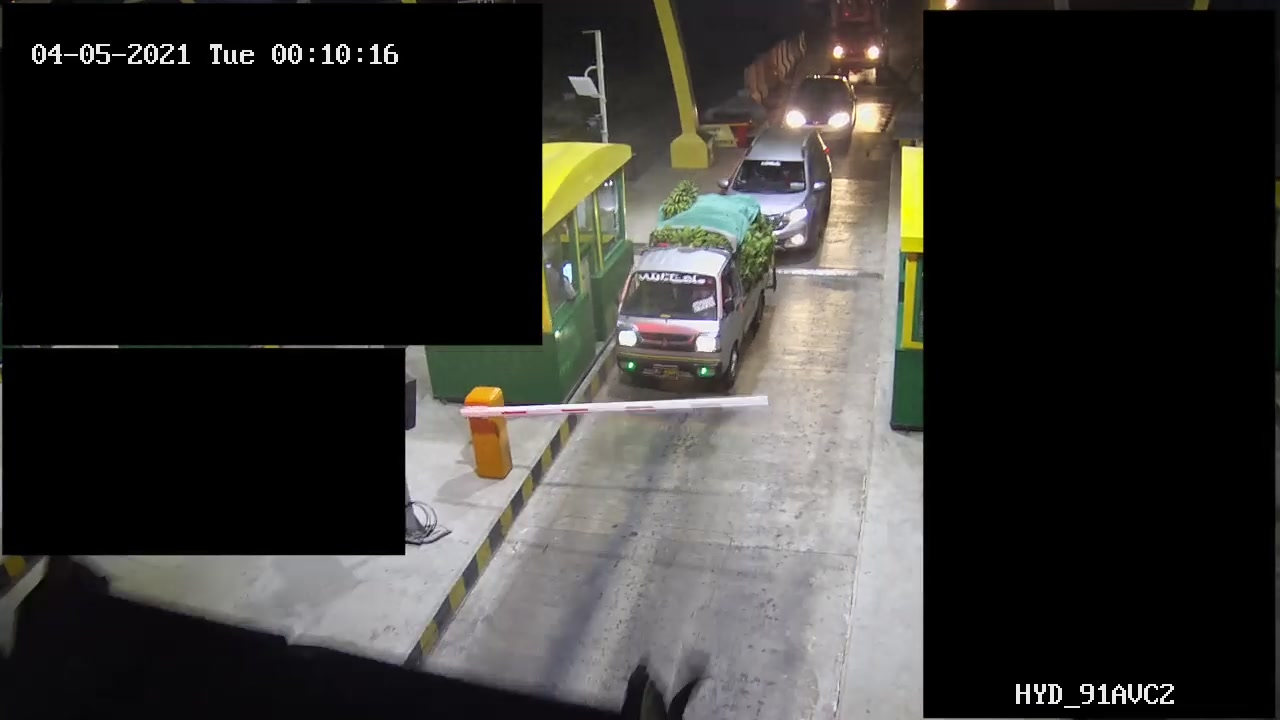F1: (609, 193, 765, 382)
